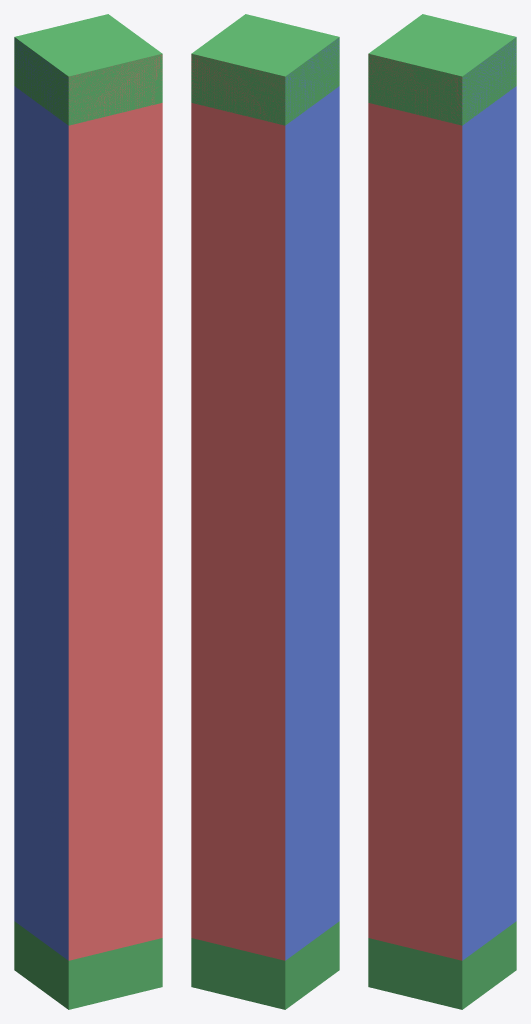
File: y_init_and_meas_bridge.pipe_length_4_0.dae
The picture shows the model from 3 angles, left to right: view 1: azimuth 30°, elevation 25°; view 2: azimuth 150°, elevation 25°; view 3: azimuth 330°, elevation 25°; orthographic projection.
Visible parts, largest first — view 1: ZXO (×4), Y (×5), ZXX (×2); view 2: ZXO (×4), Y (×5), ZXX (×2); view 3: ZXO (×4), Y (×5), ZXX (×2).
Part boxes in pixels (bbox=[...]): ZXO (×4): bbox=[14, 39, 162, 960]; Y (×5): bbox=[14, 14, 162, 1009]; ZXX (×2): bbox=[14, 430, 162, 567]; ZXO (×4): bbox=[191, 38, 339, 960]; Y (×5): bbox=[191, 14, 339, 1009]; ZXX (×2): bbox=[191, 430, 339, 567]; ZXO (×4): bbox=[368, 37, 516, 960]; Y (×5): bbox=[368, 14, 516, 1009]; ZXX (×2): bbox=[368, 430, 516, 567].
Bounding box in the file's own units: 1 × 1 × 9.5.
